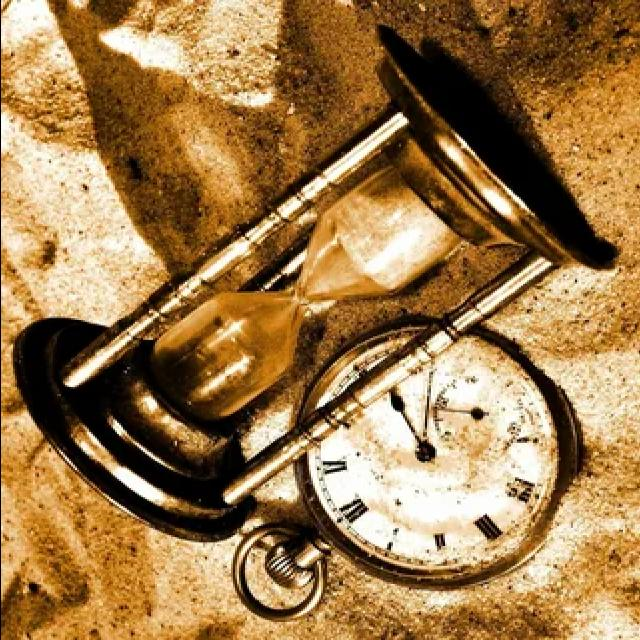clock: (17, 36, 610, 548)
